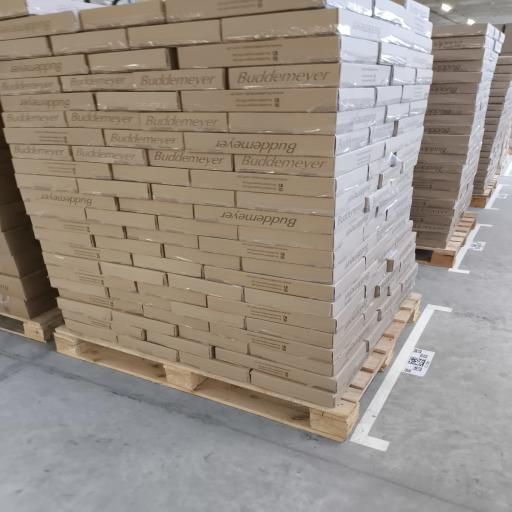pallet: (55, 294, 420, 441), (416, 212, 477, 268), (0, 308, 64, 342), (470, 177, 498, 208)
